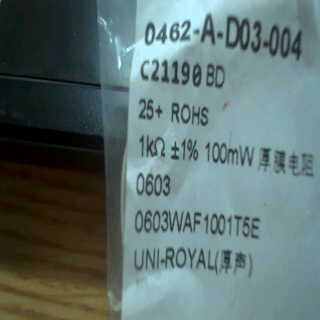1kR: (137, 132, 168, 158)
